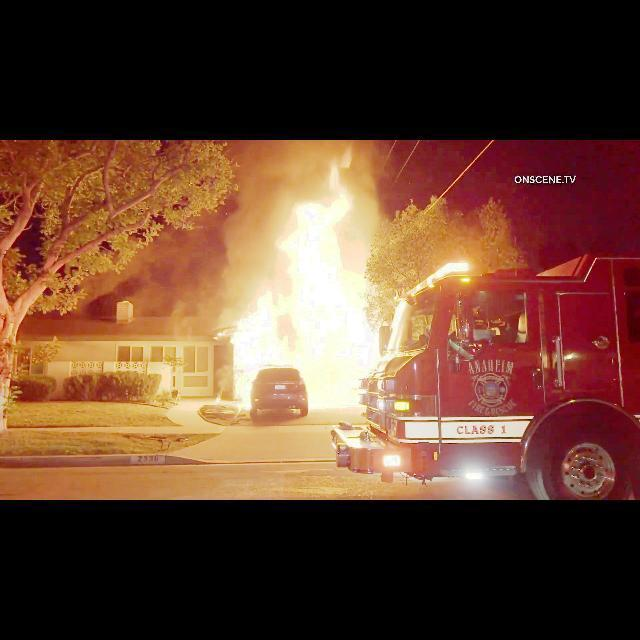Fire: (282, 194, 364, 368), (312, 140, 363, 408), (232, 286, 282, 362)
Smoke: (166, 232, 224, 322), (232, 204, 276, 274), (238, 144, 304, 190)
